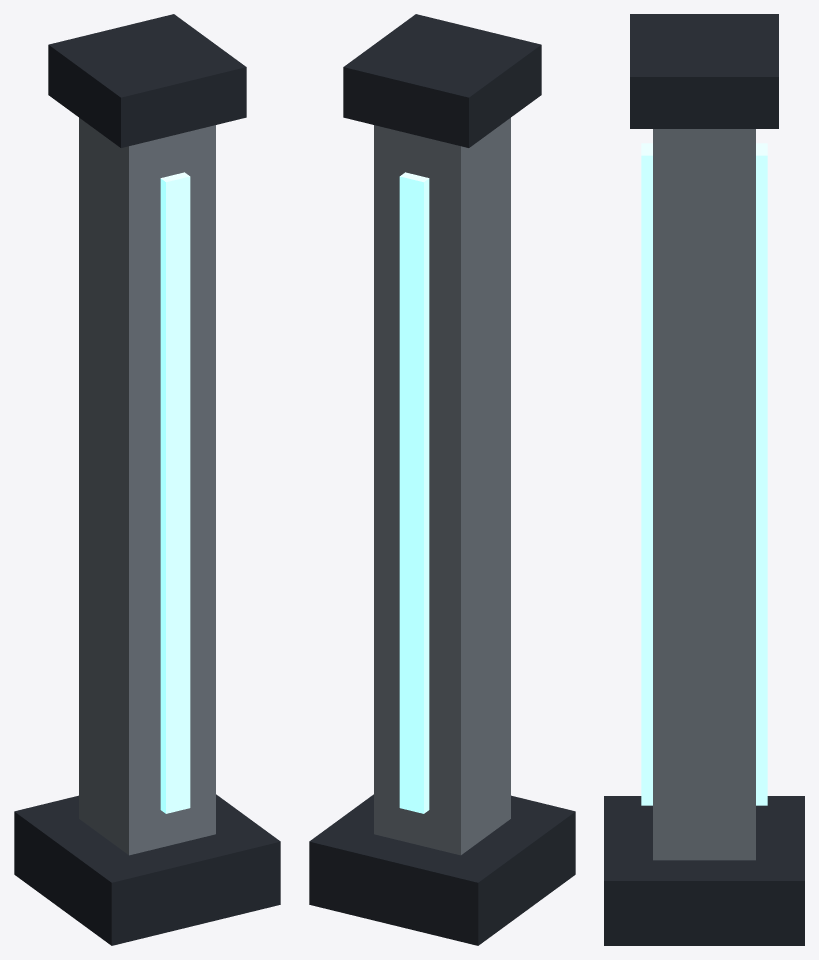
Rendered from os_field_emitter.glb.
The picture shows the model from 3 angles, left to right: view 1: azimuth 30°, elevation 25°; view 2: azimuth 150°, elevation 25°; view 3: azimuth 270°, elevation 25°; orthographic projection. The views are drawn at different scales.
Visible parts, largest first — view 1: os_field_emitter; view 2: os_field_emitter; view 3: os_field_emitter.
Boxes of the visible parts, x1=… form: os_field_emitter: x1=14, y1=14, x2=280, y2=945; os_field_emitter: x1=309, y1=14, x2=575, y2=945; os_field_emitter: x1=604, y1=14, x2=804, y2=945.
Size of the model in its own units: 0.7 by 3.3 by 0.7.
